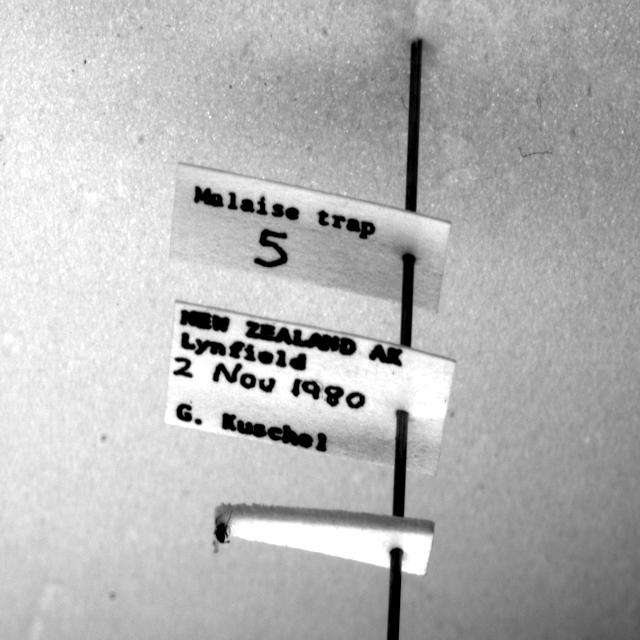mixed_label: (165, 302, 455, 474), (170, 163, 450, 311)
